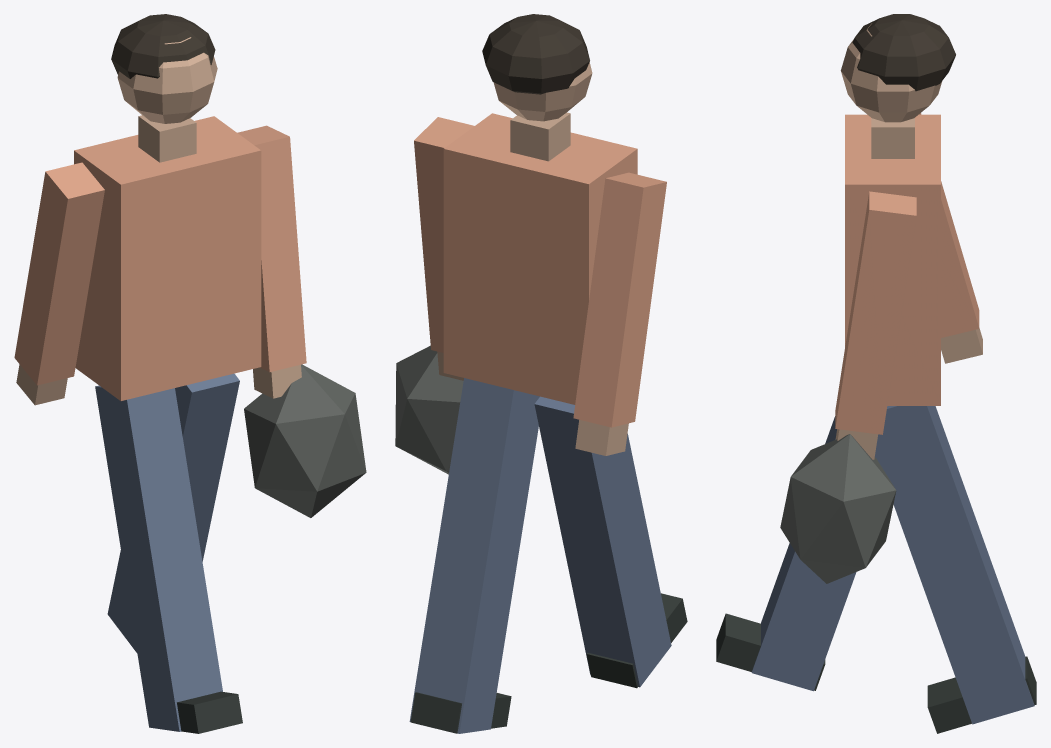
The model's file is person-carrying-bag.glb.
The picture shows the model from 3 angles, left to right: view 1: azimuth 30°, elevation 25°; view 2: azimuth 150°, elevation 25°; view 3: azimuth 270°, elevation 25°; orthographic projection. The views are drawn at different scales.
Visible parts, largest first — view 1: torso, leg_r, arm_l, arm_r, head, leg_l; view 2: torso, leg_l, leg_r, arm_r, arm_l, head; view 3: leg_l, arm_l, torso, head, leg_r, arm_r.
Boxes of the visible parts, left/top/right/bottom form: torso: left=74, top=116, right=261, bottom=400; leg_r: left=95, top=385, right=242, bottom=733; arm_l: left=237, top=125, right=366, bottom=517; arm_r: left=14, top=162, right=104, bottom=405; head: left=111, top=14, right=217, bottom=162; leg_l: left=107, top=373, right=239, bottom=652; torso: left=443, top=113, right=637, bottom=404; leg_l: left=409, top=378, right=539, bottom=733; leg_r: left=534, top=396, right=687, bottom=688; arm_r: left=573, top=172, right=666, bottom=455; arm_l: left=395, top=117, right=474, bottom=474; head: left=482, top=14, right=592, bottom=161; leg_l: left=875, top=406, right=1036, bottom=733; arm_l: left=780, top=191, right=916, bottom=583; torso: left=845, top=114, right=940, bottom=405; head: left=840, top=14, right=955, bottom=158; leg_r: left=716, top=416, right=877, bottom=691; arm_r: left=919, top=113, right=982, bottom=363.
Bounding box in the file's own units: 0.7431 × 1.74 × 0.735.
